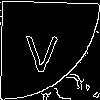V: (24, 25, 59, 73)
